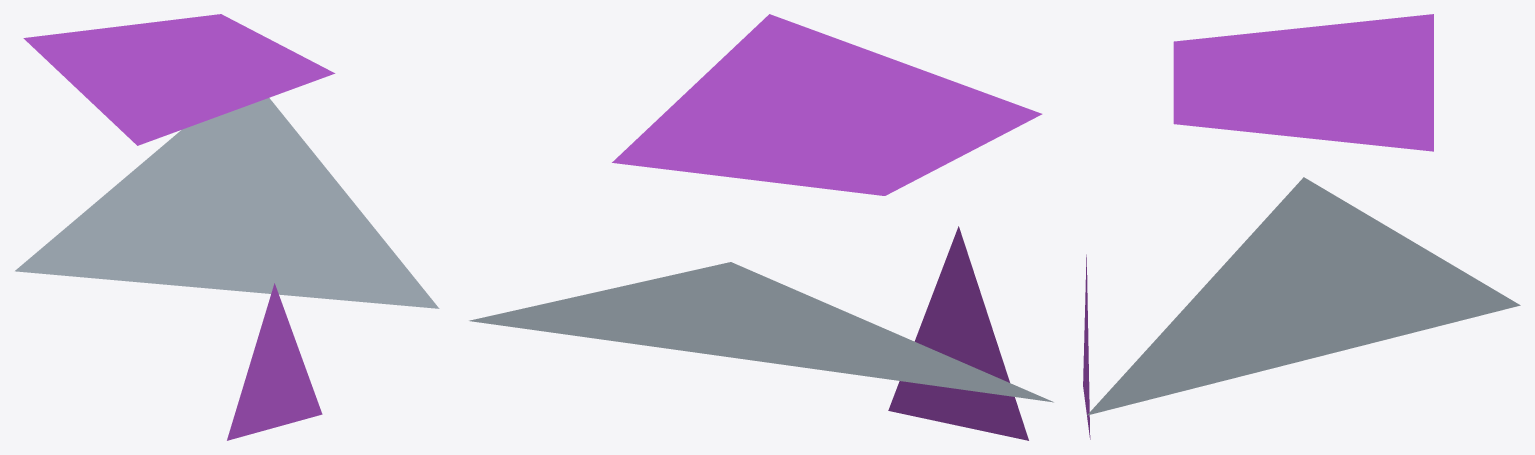
The model's file is CH_StasisProjectorBuilding_LOD2.glb.
The picture shows the model from 3 angles, left to right: view 1: azimuth 30°, elevation 25°; view 2: azimuth 150°, elevation 25°; view 3: azimuth 270°, elevation 25°; orthographic projection. The views are drawn at different scales.
Parts seen in each view (by area): view 1: EntranceGate; view 2: EntranceGate; view 3: EntranceGate.
Boxes of the visible parts, <box> form: EntranceGate: <box>15,14,439,440</box>; EntranceGate: <box>469,14,1053,440</box>; EntranceGate: <box>1083,14,1520,439</box>.
Bounding box in the file's own units: 400 × 350 × 403.
